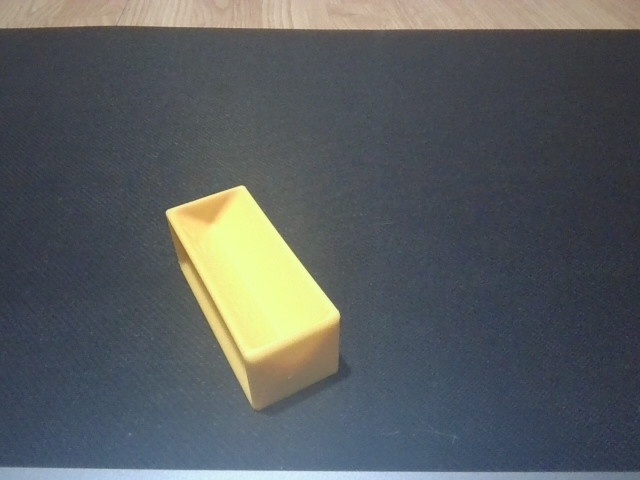YellowSample: (158, 181, 351, 416)
